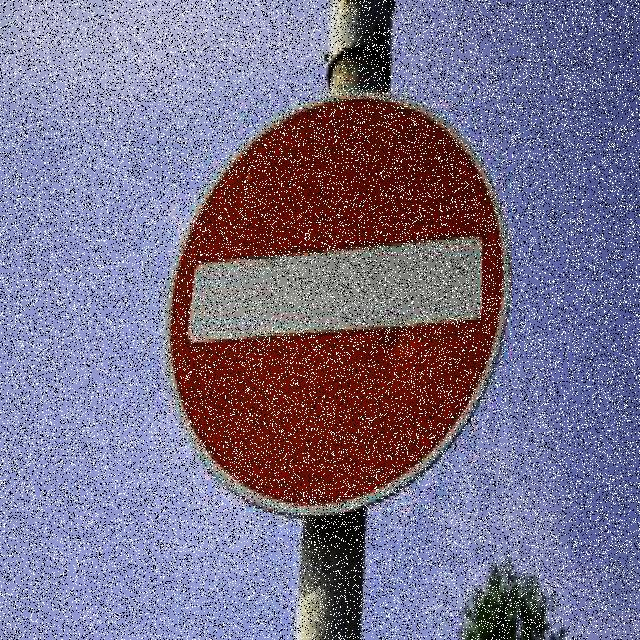no entry: (166, 90, 510, 512)
